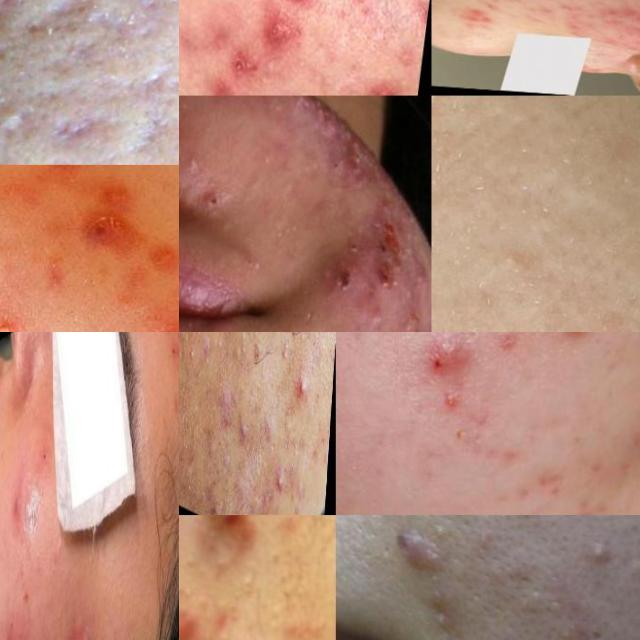acne_scars: (49, 98, 111, 142), (25, 0, 93, 33), (140, 61, 179, 97), (445, 3, 502, 26), (66, 602, 99, 640), (112, 153, 178, 165)
comedone: (479, 235, 536, 281), (233, 560, 265, 609), (0, 90, 31, 130), (203, 547, 241, 579), (179, 545, 208, 580), (362, 515, 423, 531), (276, 563, 306, 592), (276, 332, 292, 379), (234, 332, 249, 367), (188, 332, 199, 369)
papule: (410, 332, 475, 395), (67, 202, 134, 260), (251, 0, 309, 64), (131, 234, 179, 285), (220, 38, 266, 86), (19, 165, 98, 189), (6, 472, 27, 550), (366, 66, 404, 96), (179, 599, 203, 640), (212, 515, 255, 537), (180, 148, 206, 183), (625, 24, 640, 38)
pustule: (571, 525, 616, 580), (293, 366, 311, 412), (538, 332, 589, 347), (0, 313, 31, 332), (233, 414, 248, 450), (271, 471, 283, 508)
sebo-crystan-conglo: (316, 200, 416, 315), (257, 96, 383, 186), (372, 272, 431, 332), (399, 523, 453, 582)
